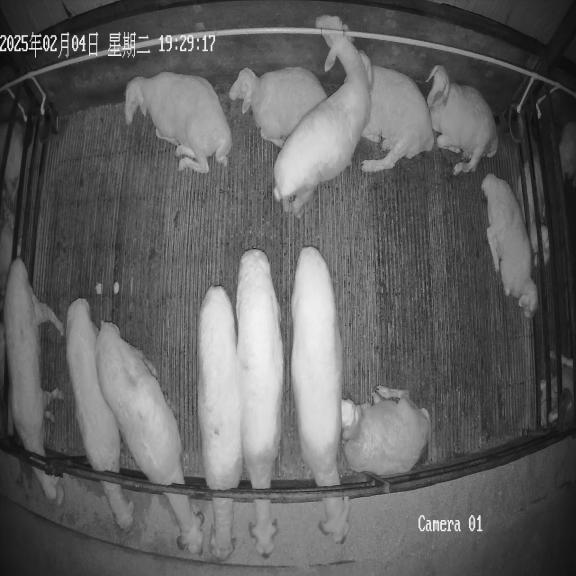eating: (95, 322, 203, 554), (291, 246, 350, 543), (65, 298, 133, 531), (3, 257, 64, 505), (236, 249, 284, 558), (198, 286, 243, 560)
lying: (124, 72, 232, 174), (359, 51, 434, 172), (481, 174, 538, 318), (342, 386, 431, 477), (229, 67, 326, 148), (427, 65, 498, 175)
stand: (273, 15, 371, 216)
